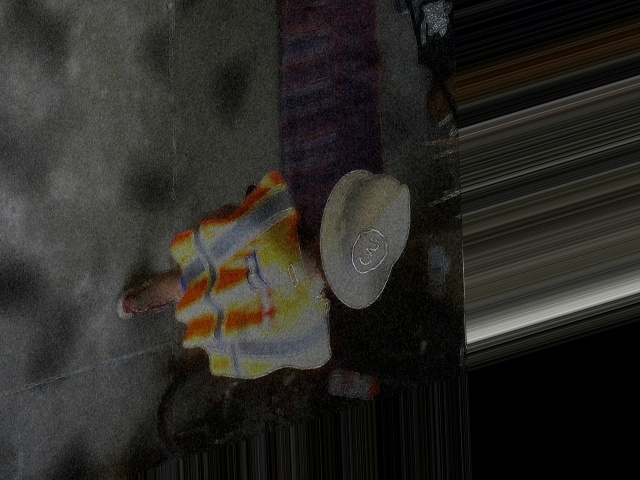three: (350, 222, 386, 275)
